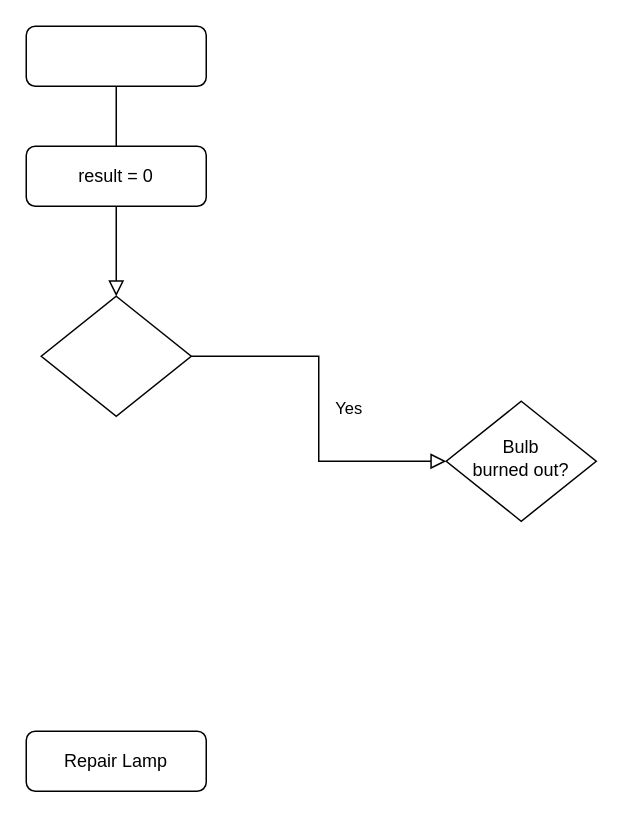
This 623x818 diagram has some shape labels left out. The centre of each missing label's shape, as x and y in pixels:
"num1 < num2" goes at pixel 115 355.
"num1, num2, num3" goes at pixel 115 55.
